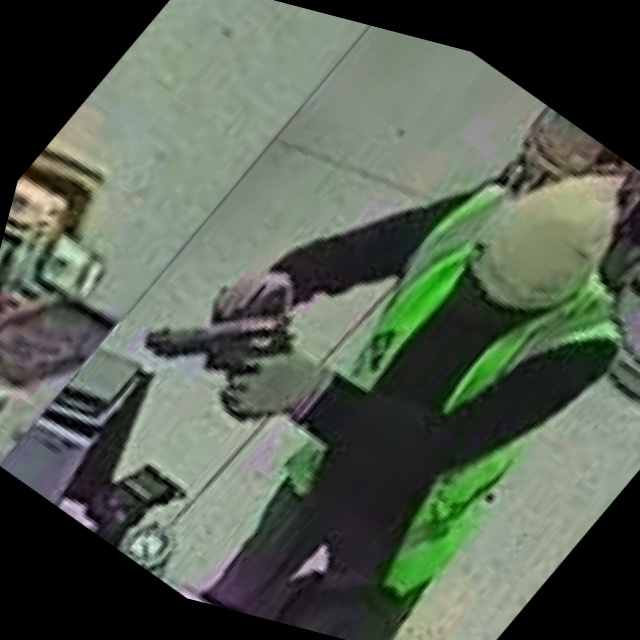gun: (115, 235, 339, 445)
